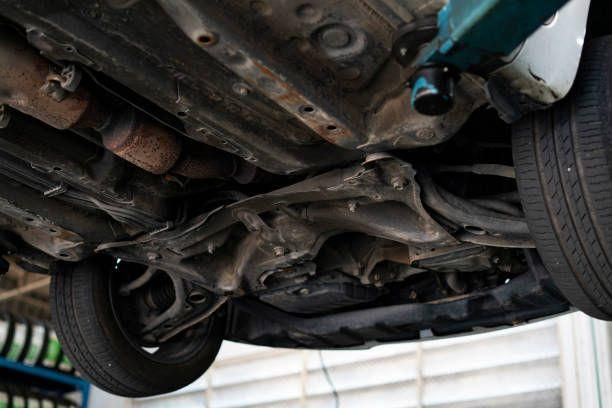automobile: (0, 0, 612, 396)
